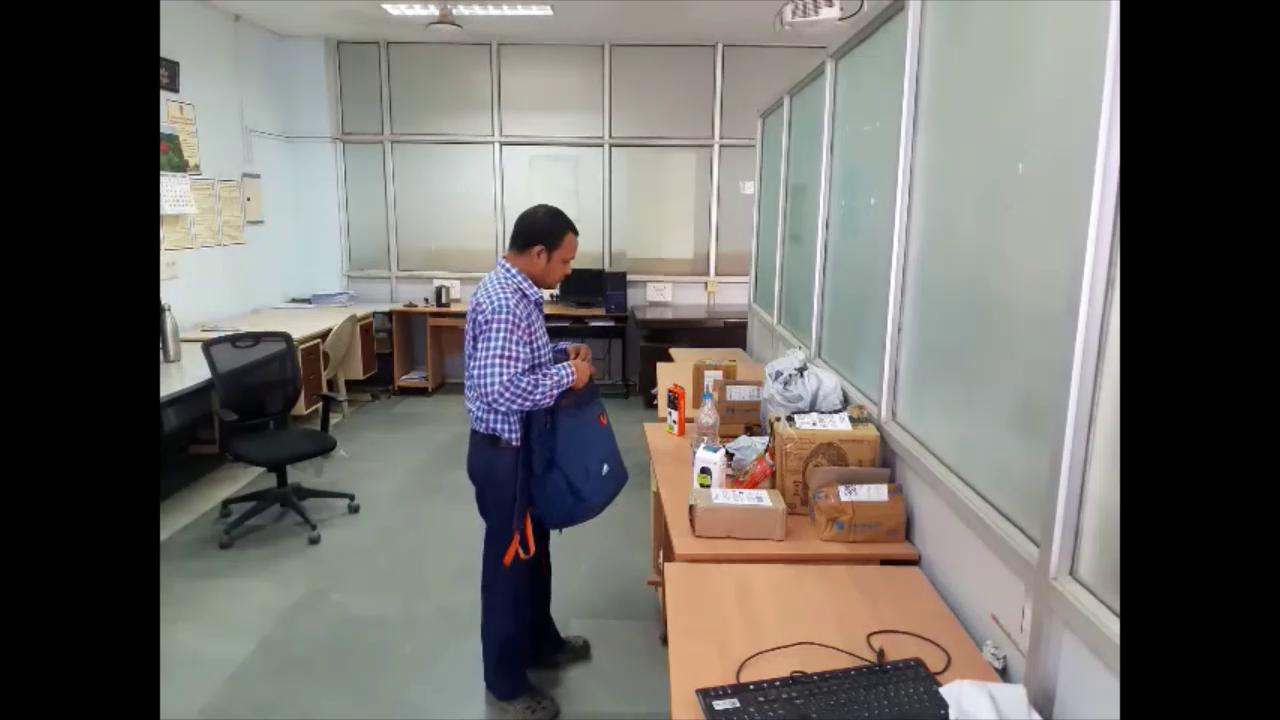shoplifting: (447, 195, 632, 720)
